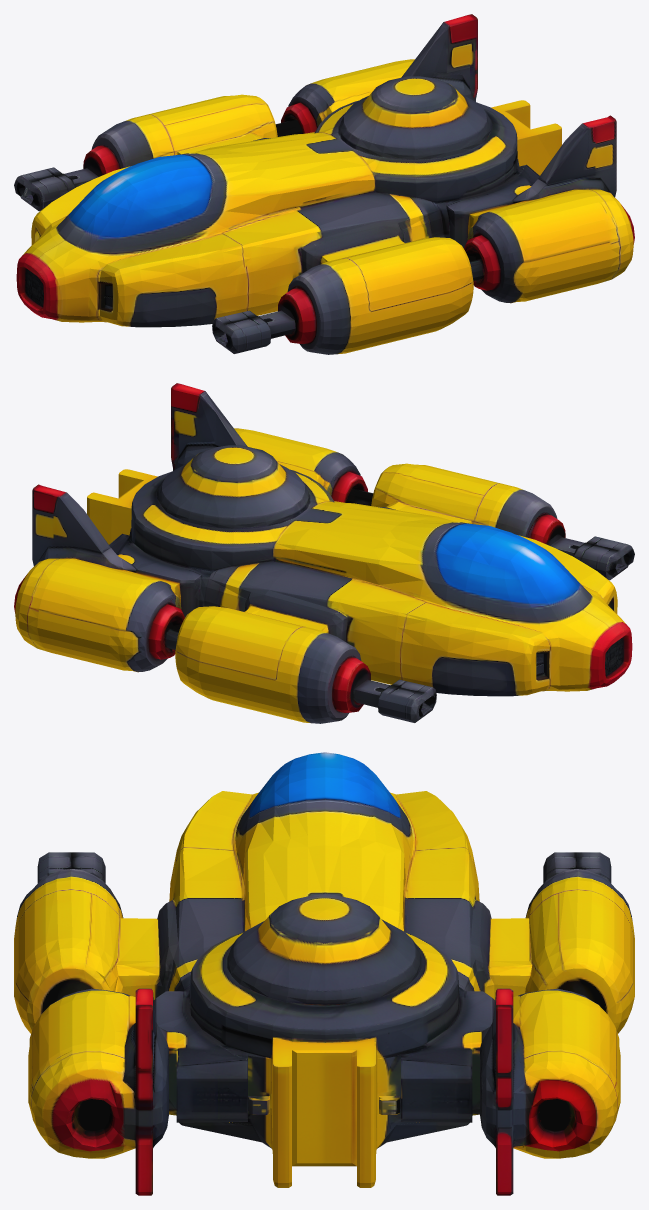
File: Meshy_AI_Golden_Cyclone_Interc_0703084642_texture.glb
3 renders of one model, top to bottom at view 1: azimuth 30°, elevation 25°; view 2: azimuth 150°, elevation 25°; view 3: azimuth 270°, elevation 25°, orthographic. The views are drawn at different scales.
Size of the model in its own units: 1.91 by 0.5675 by 1.54.
1 material, 1 textured.
